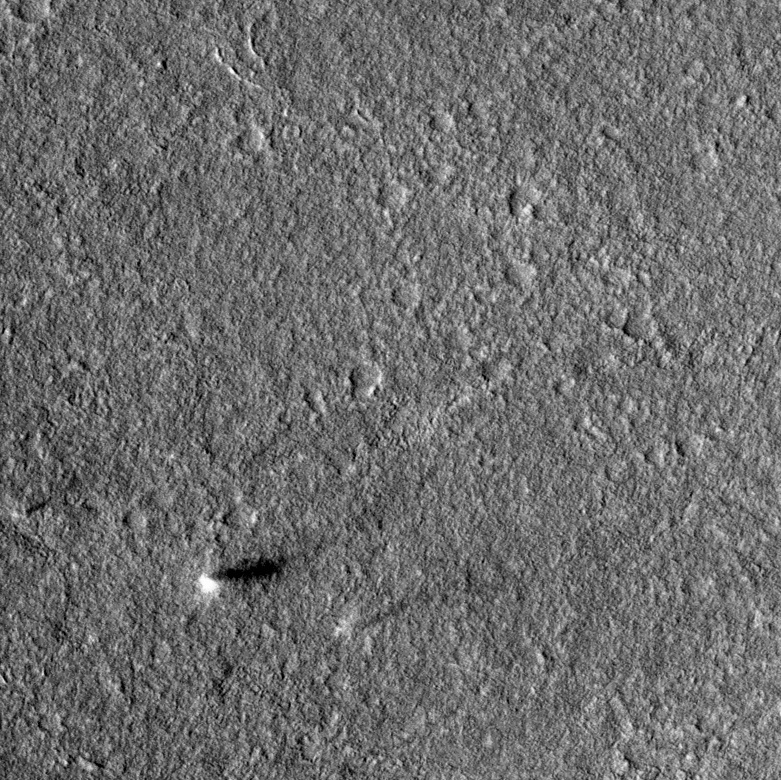dust_devil: (196, 551, 289, 600), (330, 595, 413, 640)
